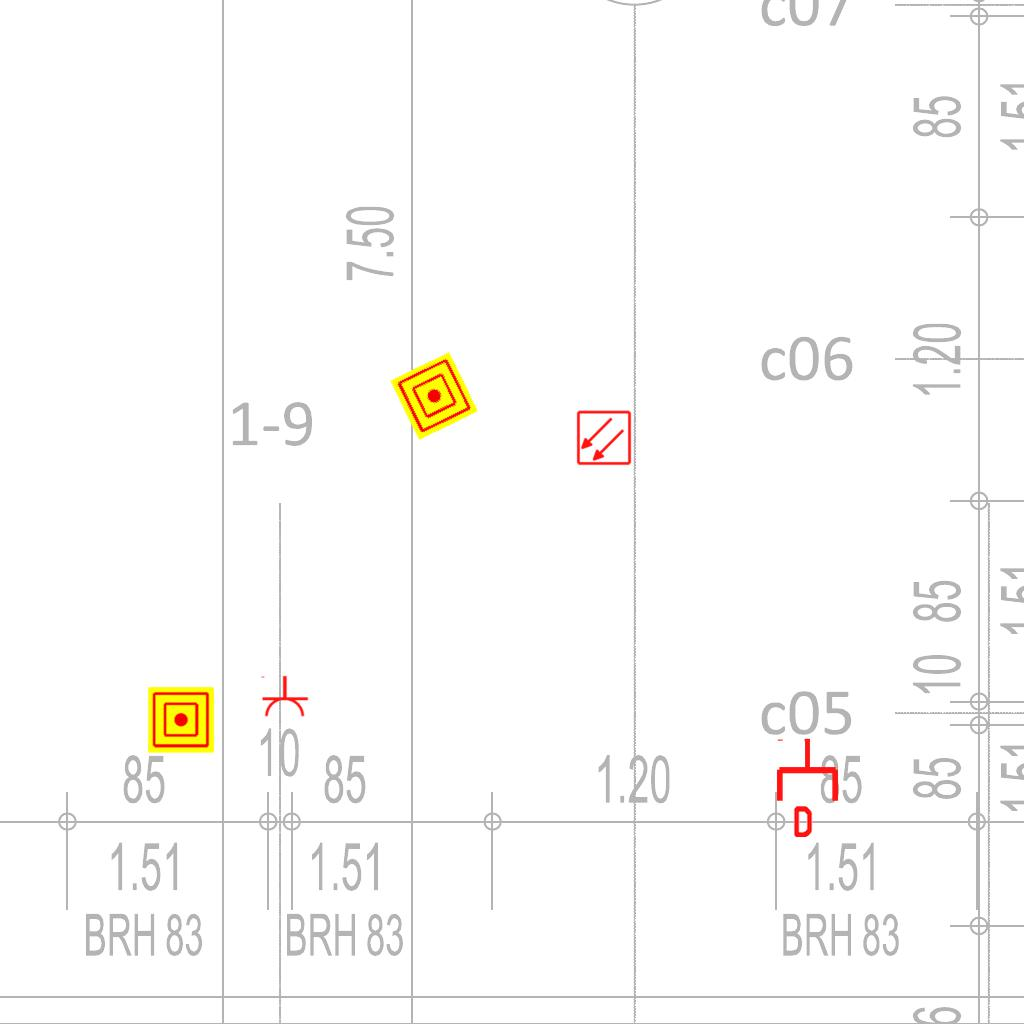Datenanschluss_einfach: (773, 737, 842, 837)
NAM-Nichtautomatischer_Melder: (389, 351, 479, 441), (148, 687, 214, 753)
RMO_Rauchmelder_optischer: (576, 410, 632, 466)
Schukosteckdose_einfach: (259, 675, 309, 718)
